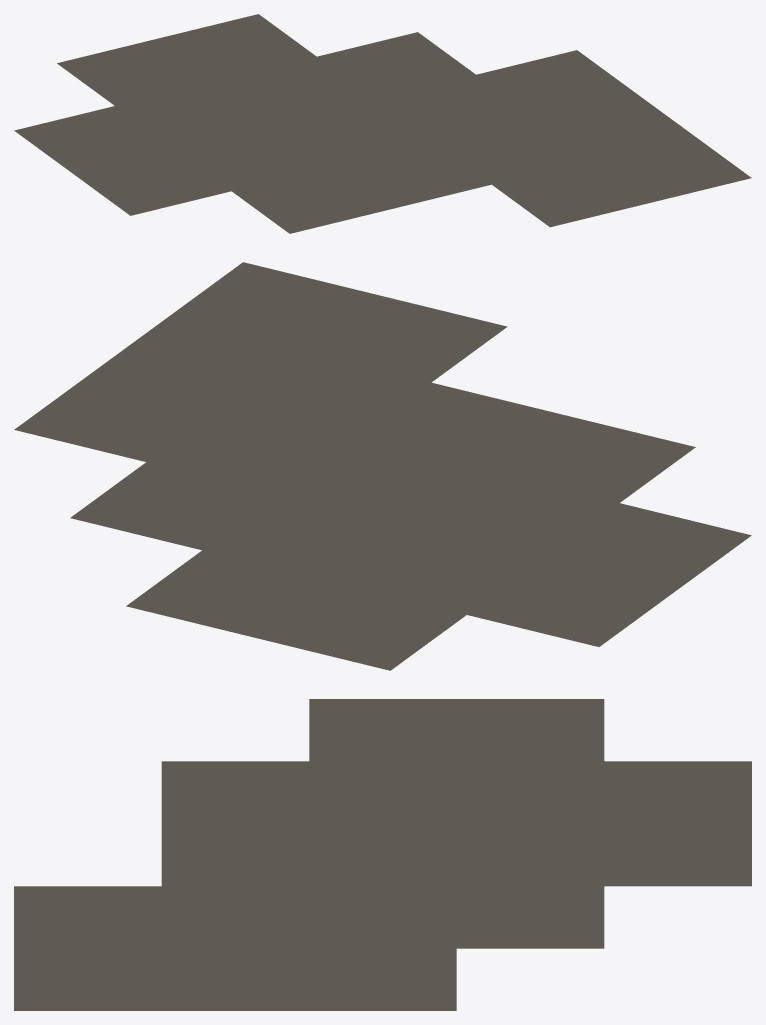
Rendered from Isl-islet6-NoBuildArea.fbx.
The picture shows the model from 3 angles, top to bottom: view 1: azimuth 30°, elevation 25°; view 2: azimuth 150°, elevation 25°; view 3: azimuth 270°, elevation 25°; orthographic projection. The views are drawn at different scales.
Parts seen in each view (by area): view 1: Isl-islet6-NoBuildArea; view 2: Isl-islet6-NoBuildArea; view 3: Isl-islet6-NoBuildArea.
Boxes of the visible parts, <box> form: Isl-islet6-NoBuildArea: <box>14,14,751,233</box>; Isl-islet6-NoBuildArea: <box>14,262,751,670</box>; Isl-islet6-NoBuildArea: <box>14,699,751,1010</box>.
Bounding box in the file's own units: 5 × 0 × 5.
